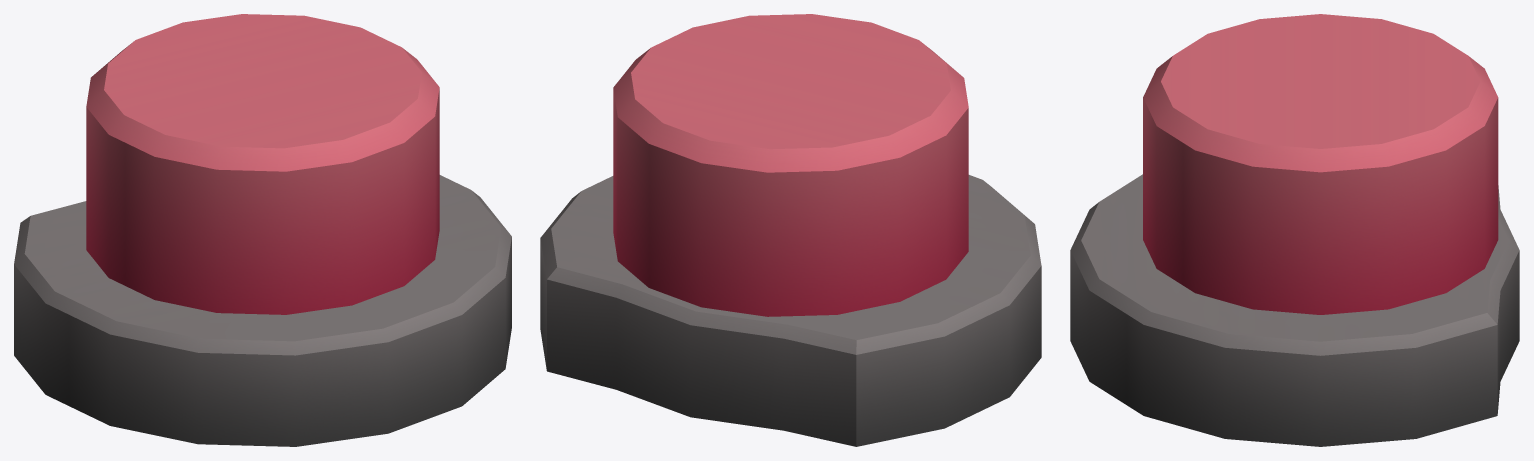
Rendered from deli_roundSmall.fbx.
The picture shows the model from 3 angles, left to right: view 1: azimuth 30°, elevation 25°; view 2: azimuth 150°, elevation 25°; view 3: azimuth 270°, elevation 25°; orthographic projection.
Visible parts, largest first — view 1: deli_roundSmall; view 2: deli_roundSmall; view 3: deli_roundSmall.
Part boxes in pixels (left/top/right/bottom): deli_roundSmall: left=14, top=14, right=511, bottom=446; deli_roundSmall: left=540, top=14, right=1041, bottom=446; deli_roundSmall: left=1070, top=14, right=1519, bottom=446.
Size of the model in its own units: 884 by 506 by 793.
Materials: 1 (1 with a texture image).
